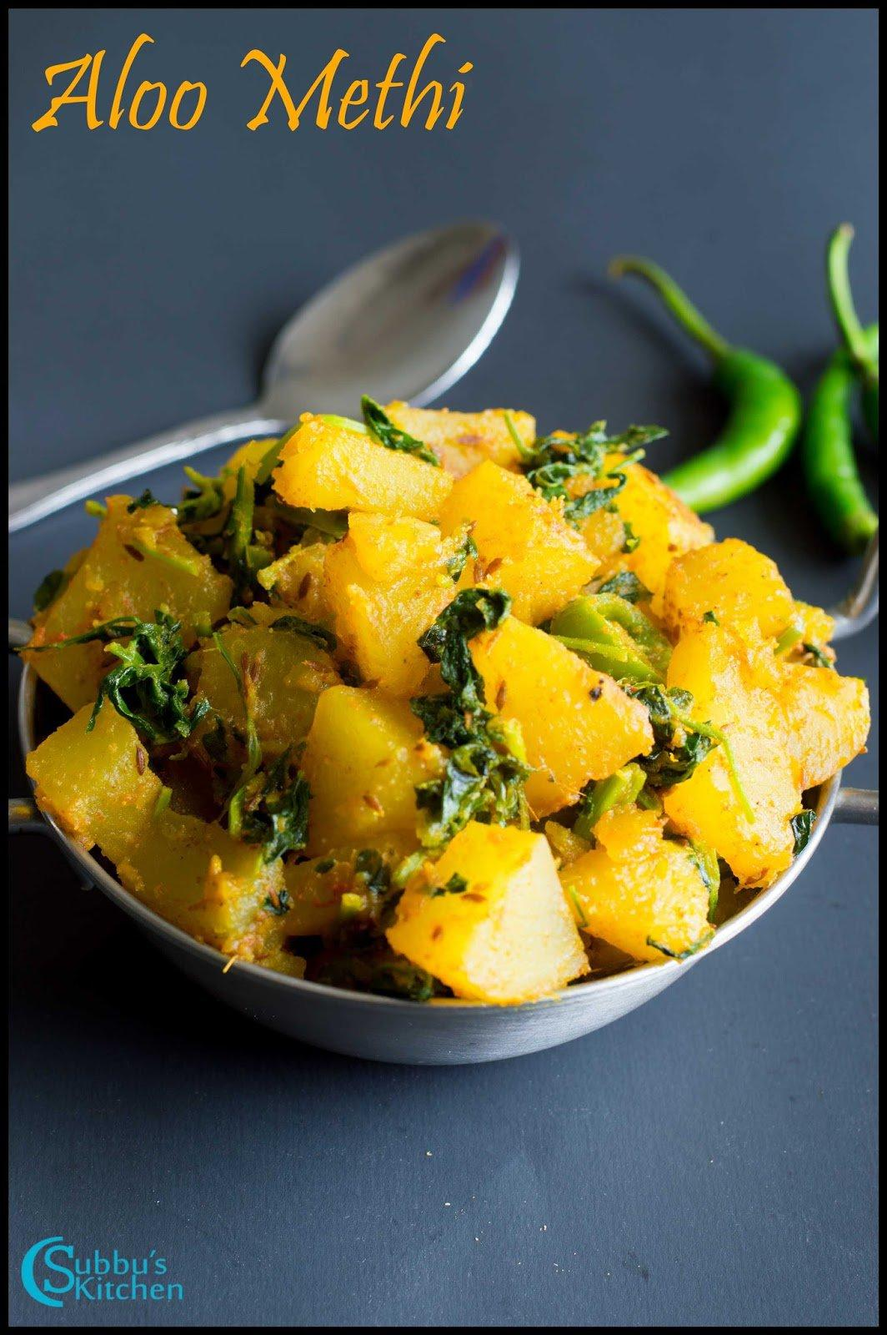Aloo Methi: (23, 371, 887, 1007), (468, 1003, 473, 1061)
